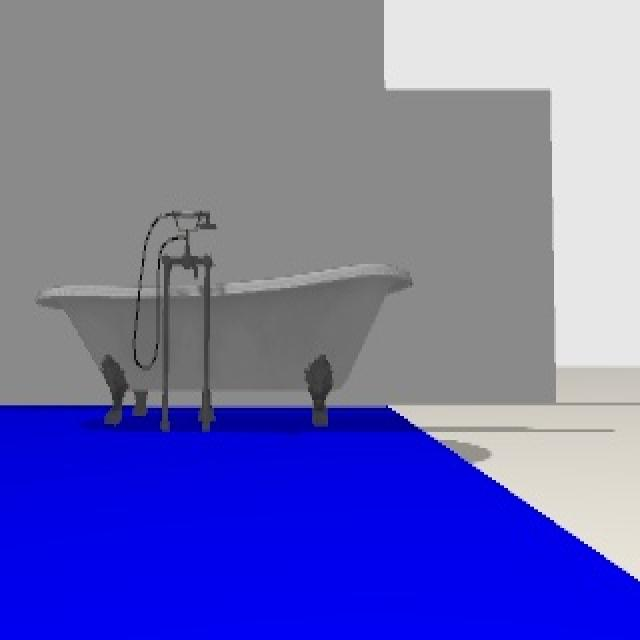bathtub: (37, 208, 412, 430)
